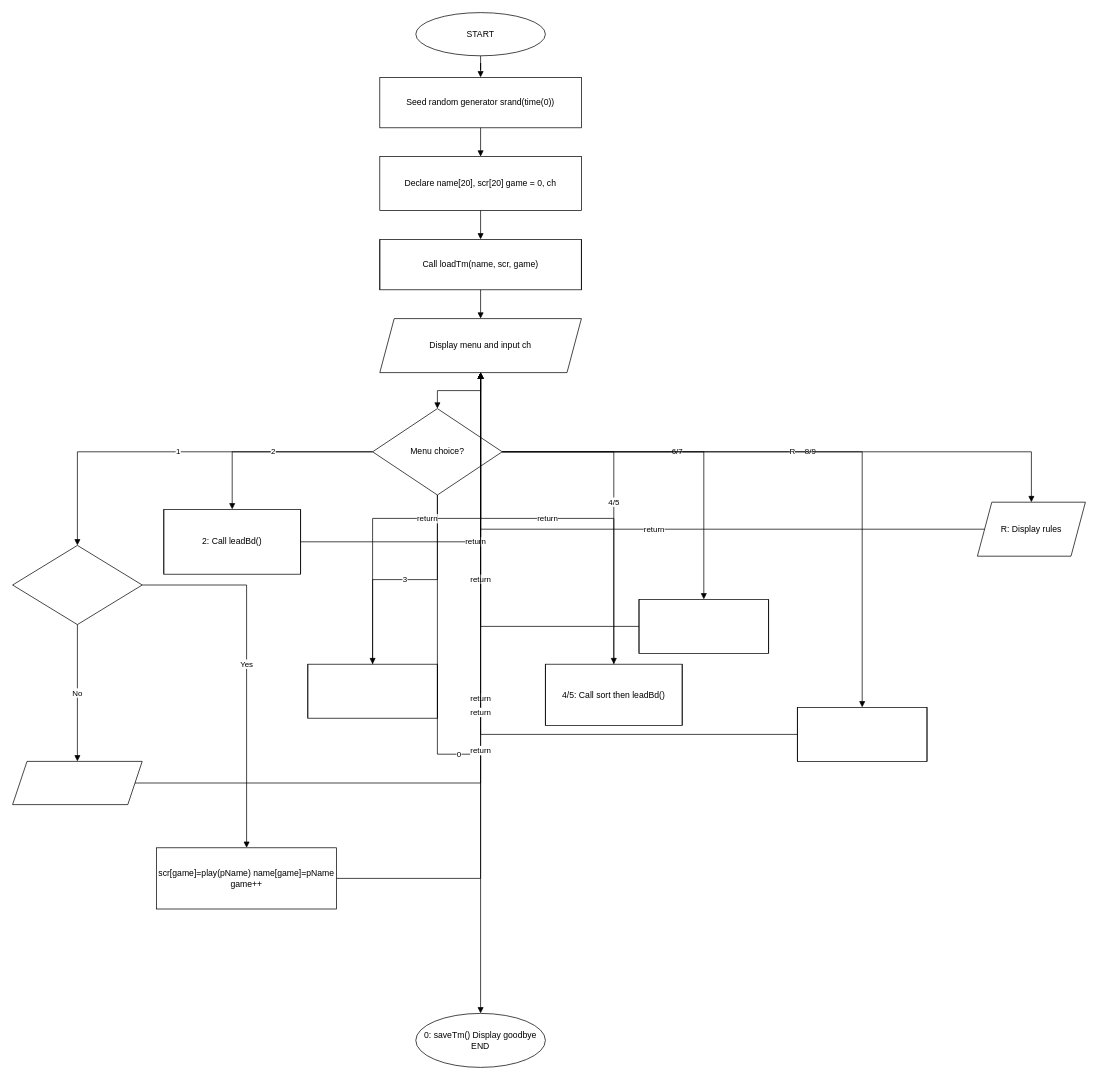
Image size: 1098x1080. Some labels were removed from this diagram. The shapes that lost their labels are listed below. From the top down, each one's centre as x and y in pixels, then its label:
At point 77,585: "1: game < 20?".
At point 703,626: "6/7: Search player".
At point 372,690: "3: Call stats()".
At point 862,734: "8/9: Save or load".
At point 77,783: "Tournament Full".
